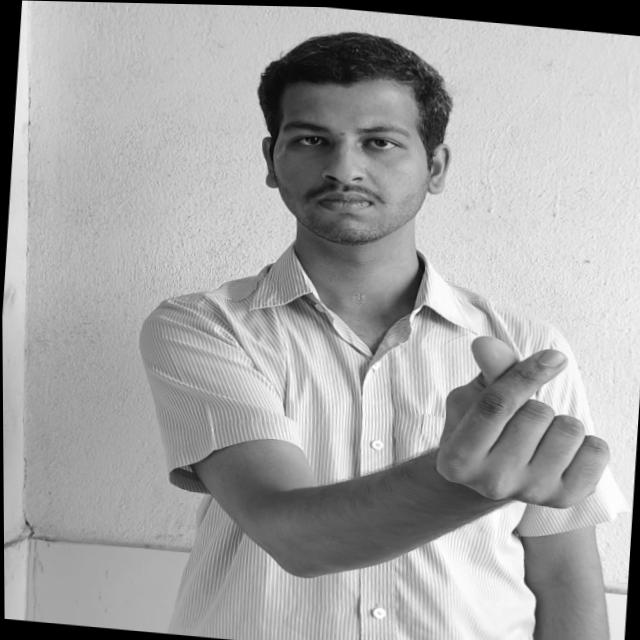Grattitude: (430, 328, 618, 516)
